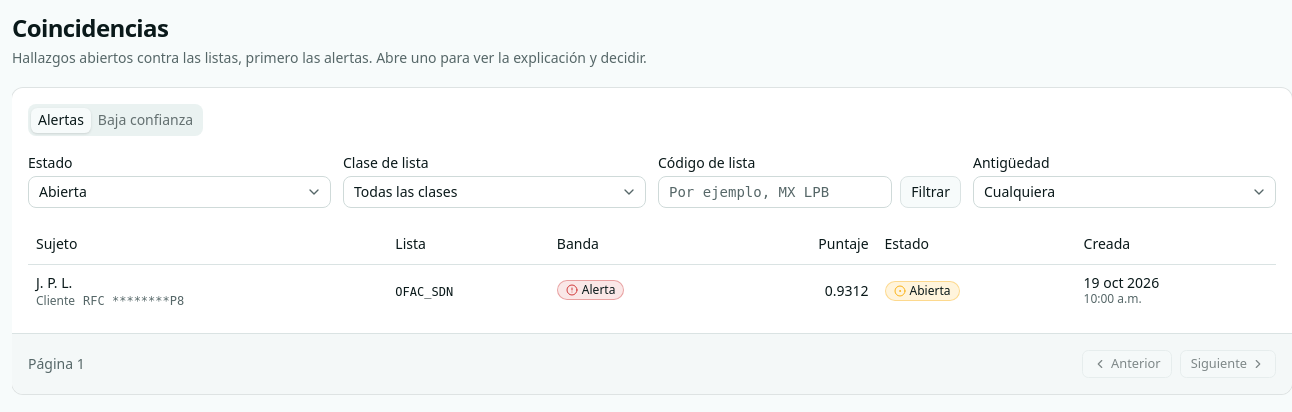
MatchesPage › switching tab requests LOW_CONFIDENCE
This screenshot has width=1292, height=412.
Click the tab "Baja confianza": [146, 120] box [91, 108, 200, 132]
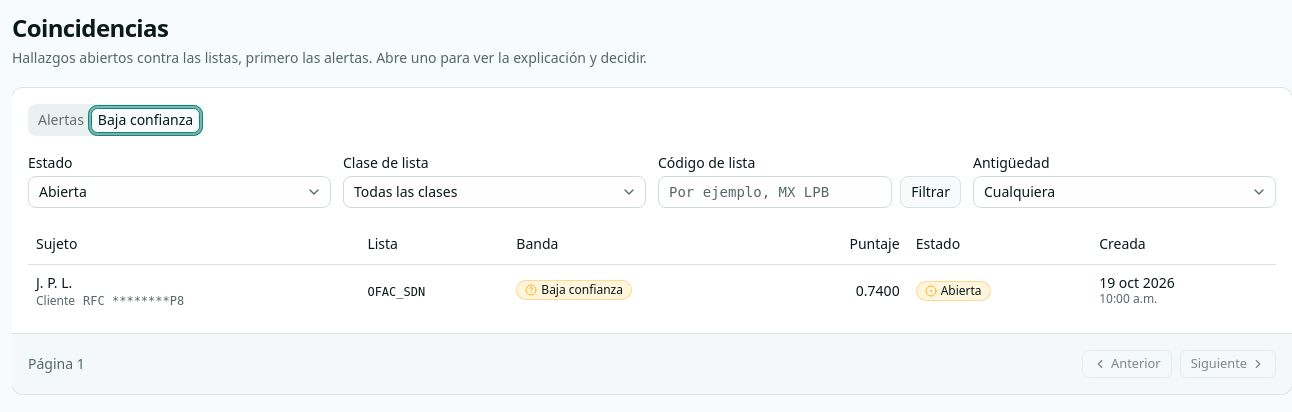
Now the text "0.7400" is shown, box [856, 280, 900, 300]
